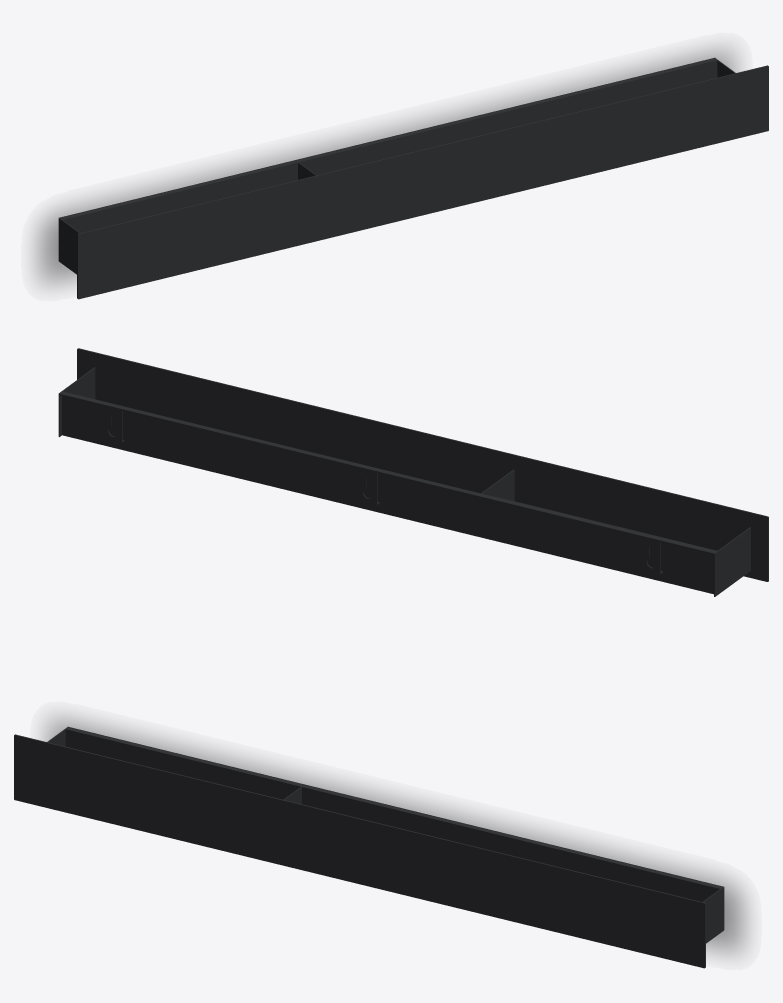
The model's file is skyline-double.de6c9c73bd.ar.glb.
3 renders of one model, top to bottom at view 1: azimuth 30°, elevation 25°; view 2: azimuth 150°, elevation 25°; view 3: azimuth 330°, elevation 25°, orthographic.
Visible parts, largest first — view 1: NAUO1, object 2; view 2: NAUO1; view 3: NAUO1, object 2.
Boxes of the visible parts, x1,y1,x2,y2 form: NAUO1: [58, 57, 768, 299]; object 2: [34, 48, 738, 285]; NAUO1: [58, 348, 768, 596]; NAUO1: [14, 726, 724, 968]; object 2: [44, 717, 748, 954].
Bounding box in the file's own units: 1.08 × 0.17 × 0.092.
2 materials, 1 textured.
